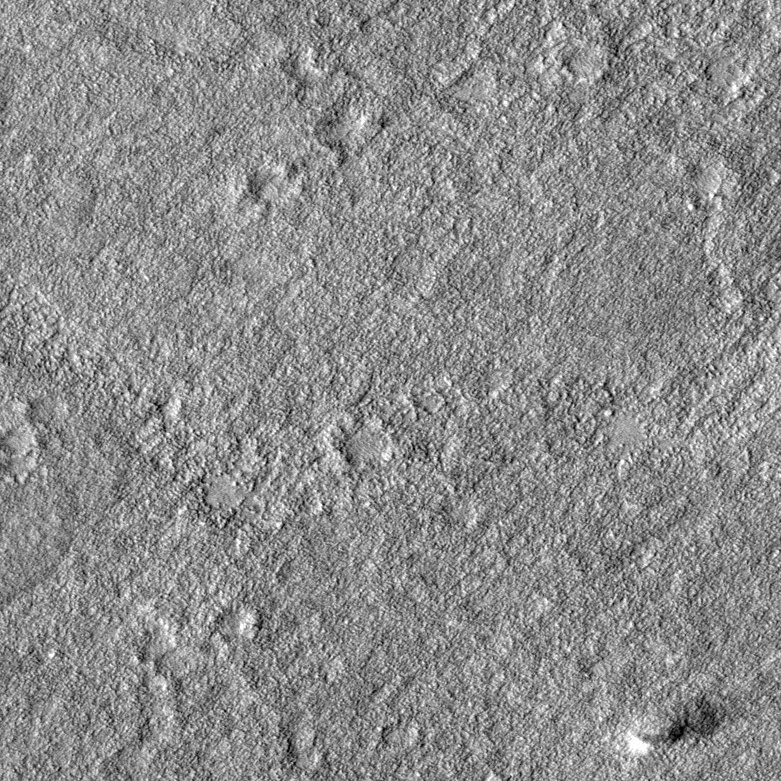dust_devil: (620, 688, 724, 758)
